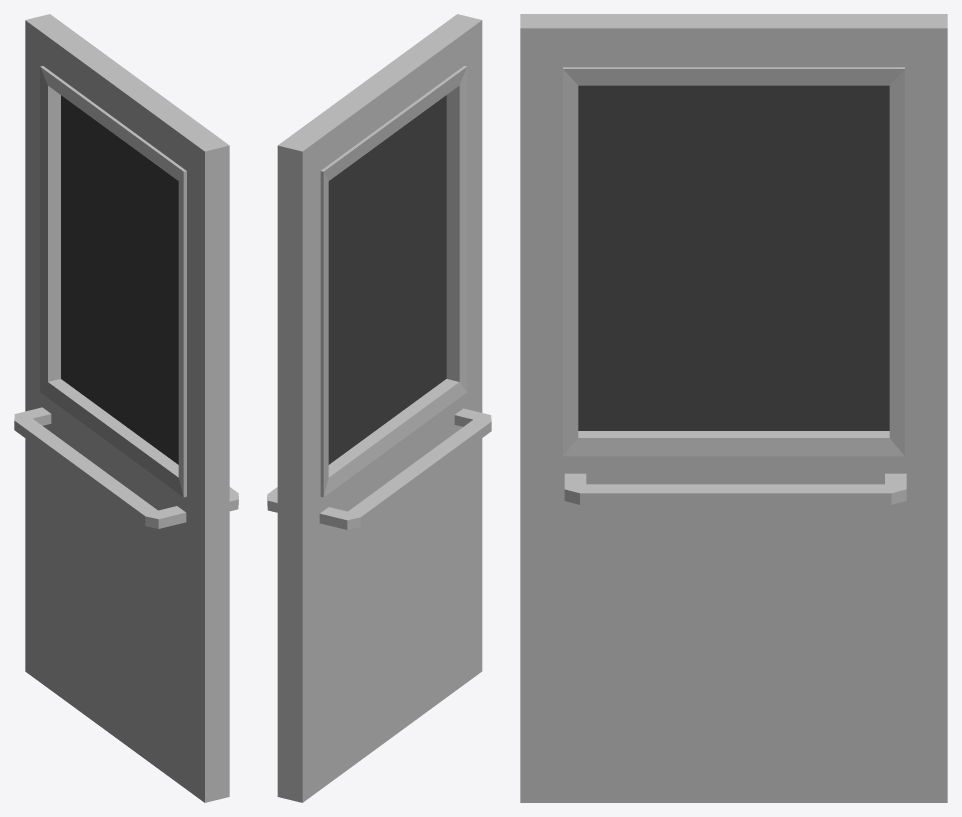
Rendered from door.fbx.
The picture shows the model from 3 angles, left to right: view 1: azimuth 30°, elevation 25°; view 2: azimuth 150°, elevation 25°; view 3: azimuth 270°, elevation 25°; orthographic projection. The views are drawn at different scales.
Visible parts, largest first — view 1: door, dirt_glass; view 2: door, dirt_glass; view 3: door, dirt_glass.
Part boxes in pixels (box(x1,y1,x2,y2)): door: box(14, 14, 238, 802); dirt_glass: box(61, 95, 178, 464); door: box(267, 14, 491, 802); dirt_glass: box(328, 95, 446, 464); door: box(520, 14, 947, 802); dirt_glass: box(578, 85, 889, 430).
Bounding box in the file's own units: 29.99 × 200 × 100.
